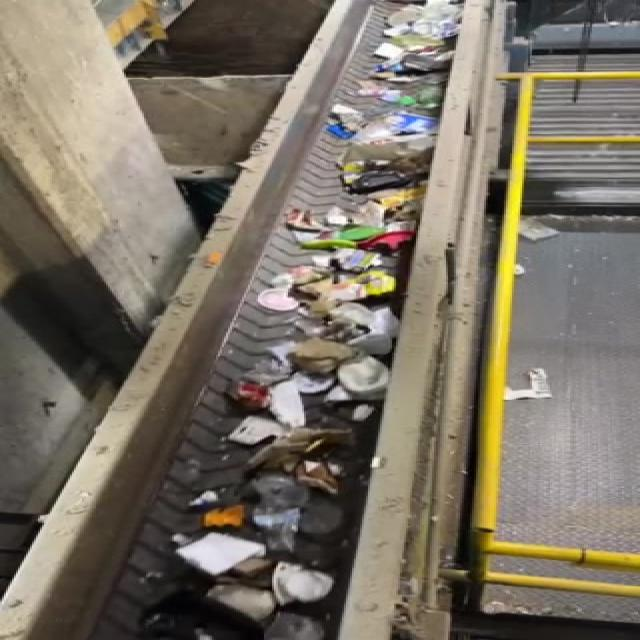paper: (177, 530, 274, 580)
